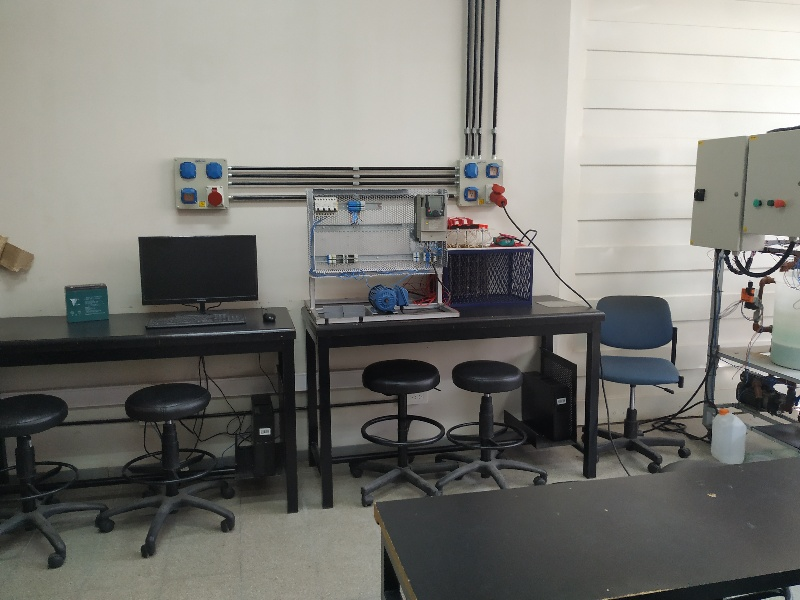Tablero 0: (306, 188, 450, 276)
